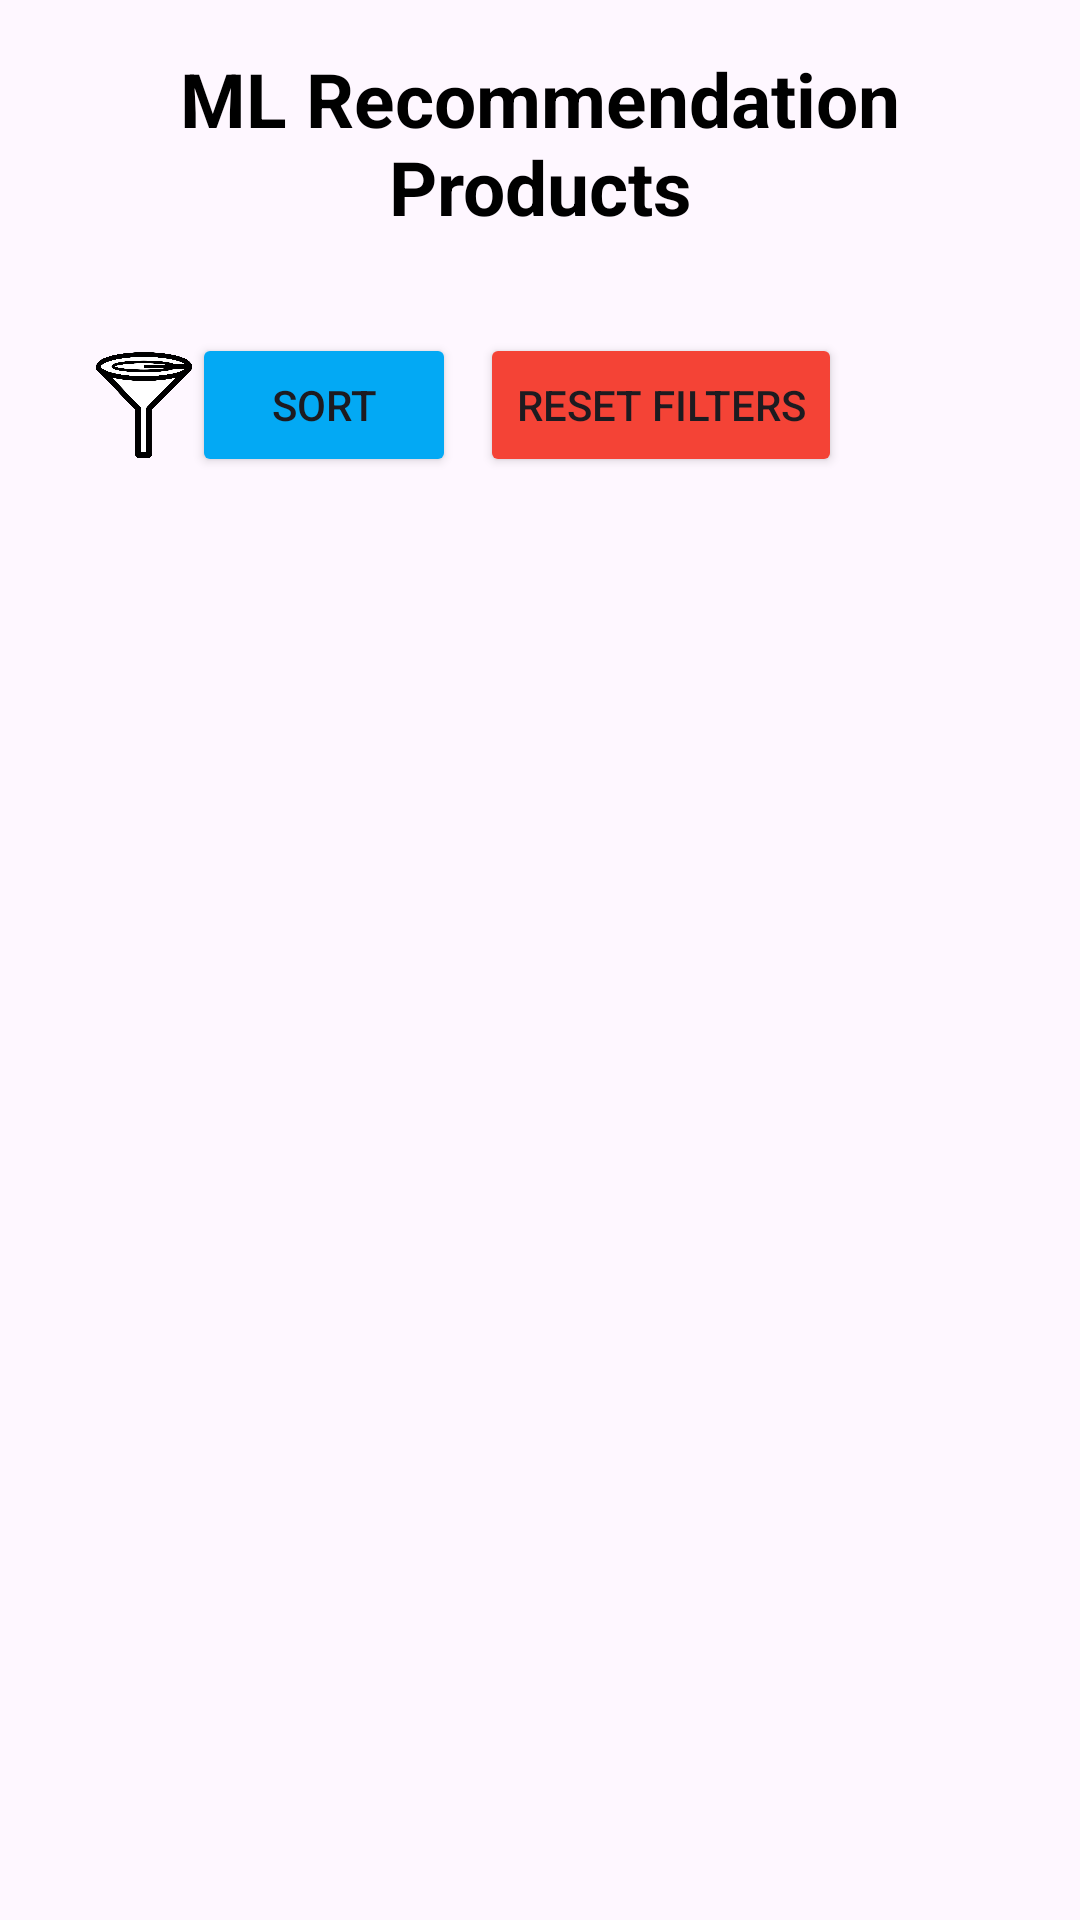

Icon click points for this 1080 × 1920 phone screenshot, format (x,y):
Filter Products: (144,405)
